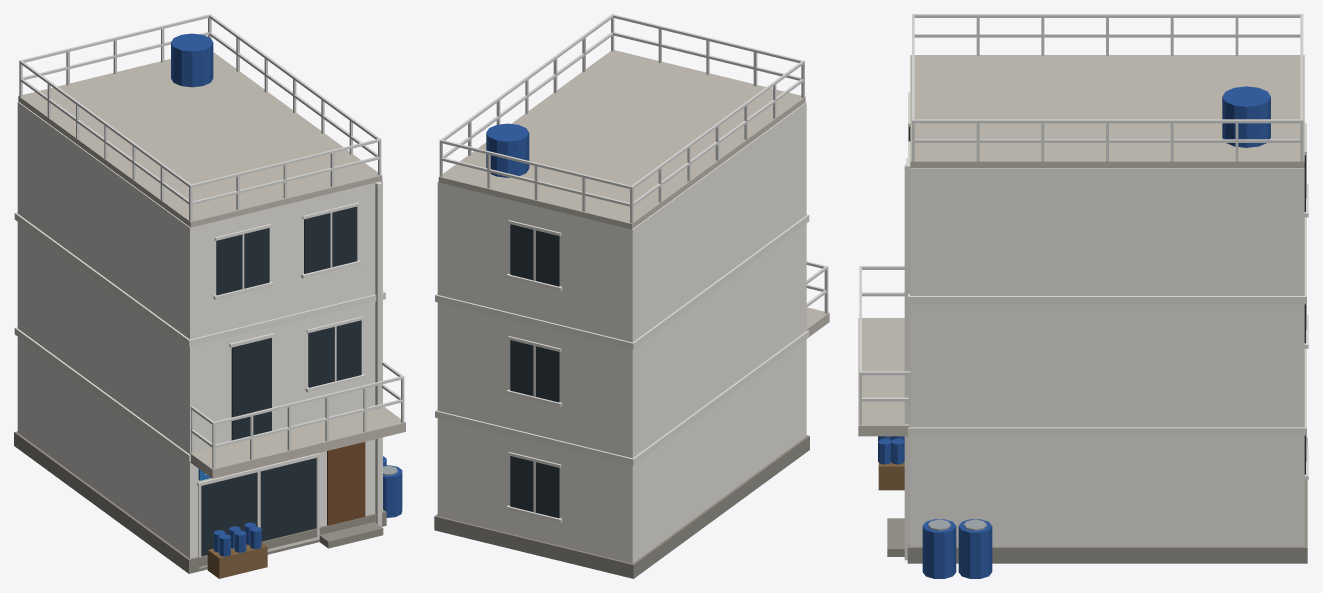
File: BAY_F_ThreeStorey_F.glb
3 views of the same model, side by side, from view 1: azimuth 30°, elevation 25°; view 2: azimuth 150°, elevation 25°; view 3: azimuth 270°, elevation 25° (orthographic). The views are drawn at different scales.
Parts seen in each view (by area): view 1: BAY_F_ThreeStorey_F; view 2: BAY_F_ThreeStorey_F; view 3: BAY_F_ThreeStorey_F.
Boxes of the visible parts, <box> form: BAY_F_ThreeStorey_F: <box>14,14,405,578</box>; BAY_F_ThreeStorey_F: <box>434,14,829,578</box>; BAY_F_ThreeStorey_F: <box>858,14,1308,578</box>.
Bounding box in the file's own units: 5.13 × 8.4 × 7.77.
Materials: 1 (1 with a texture image).
